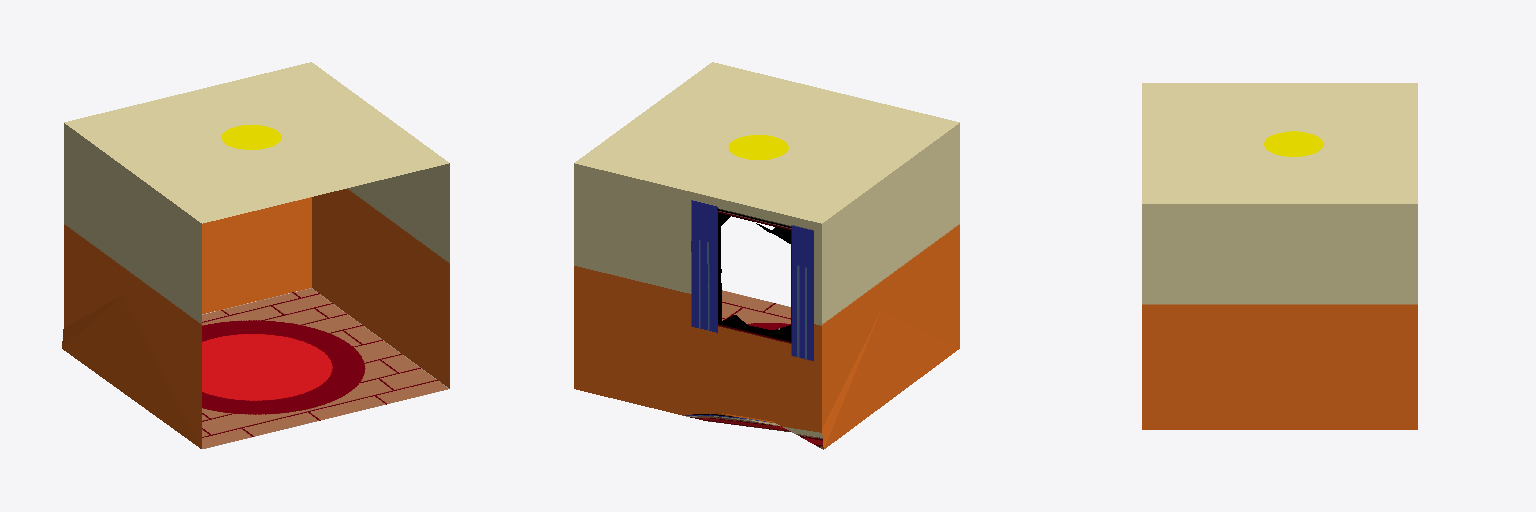
3 views of the same model, side by side, from view 1: azimuth 30°, elevation 25°; view 2: azimuth 150°, elevation 25°; view 3: azimuth 270°, elevation 25° (orthographic).
Parts seen in each view (by area): view 1: polySurface133 polySurface73; view 2: polySurface133 polySurface73; view 3: polySurface133 polySurface73.
Boxes of the visible parts, x1=… form: polySurface133 polySurface73: x1=62, y1=62, x2=449, y2=448; polySurface133 polySurface73: x1=574, y1=62, x2=959, y2=449; polySurface133 polySurface73: x1=1142, y1=83, x2=1417, y2=429.
Bounding box in the file's own units: 11.83 × 10.22 × 11.35.
1 materials, 1 textured.